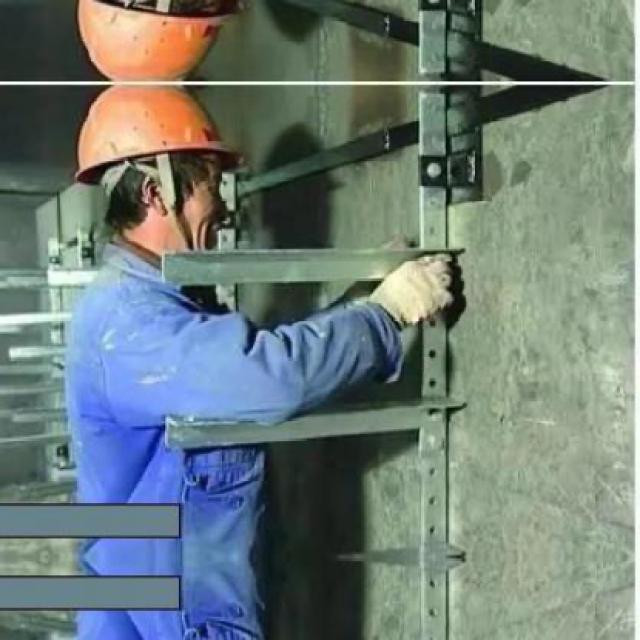con casco: (77, 83, 277, 284)
